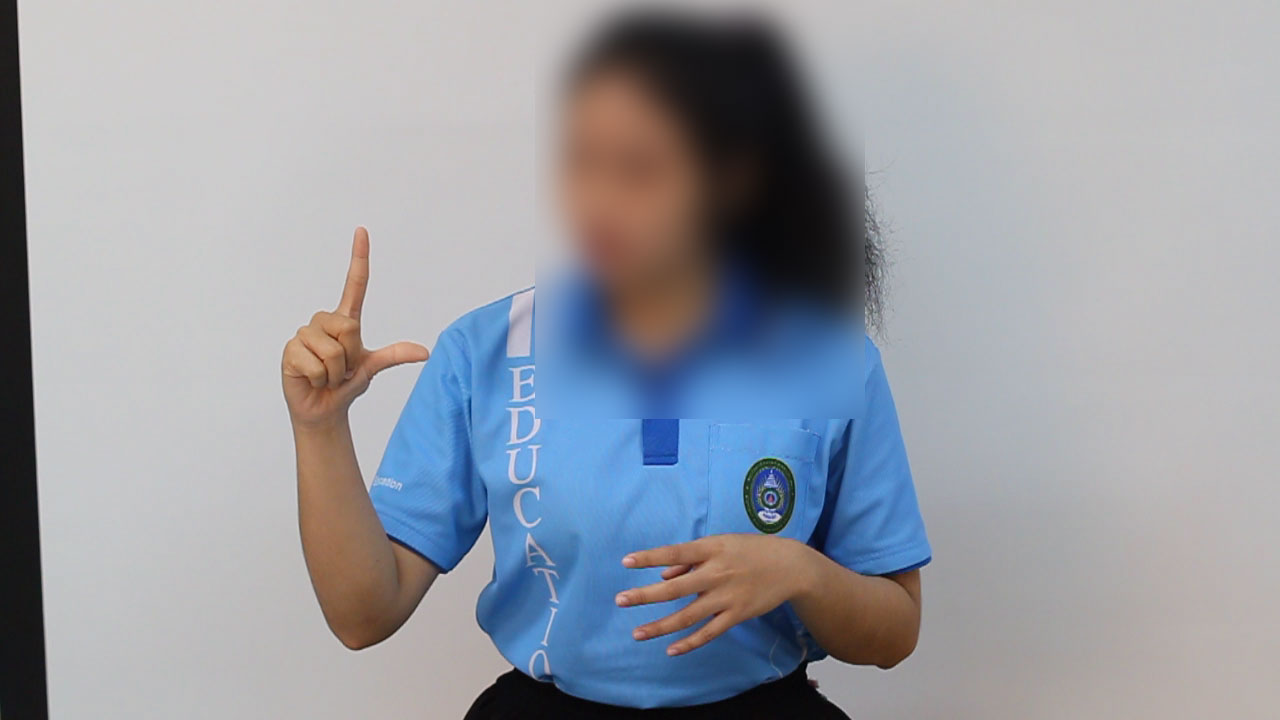lor: (190, 196, 458, 410)
